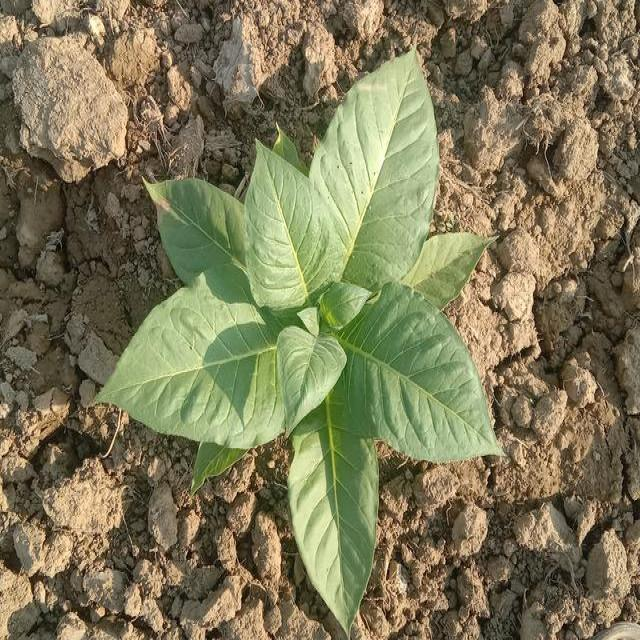crop: (95, 47, 506, 640)
